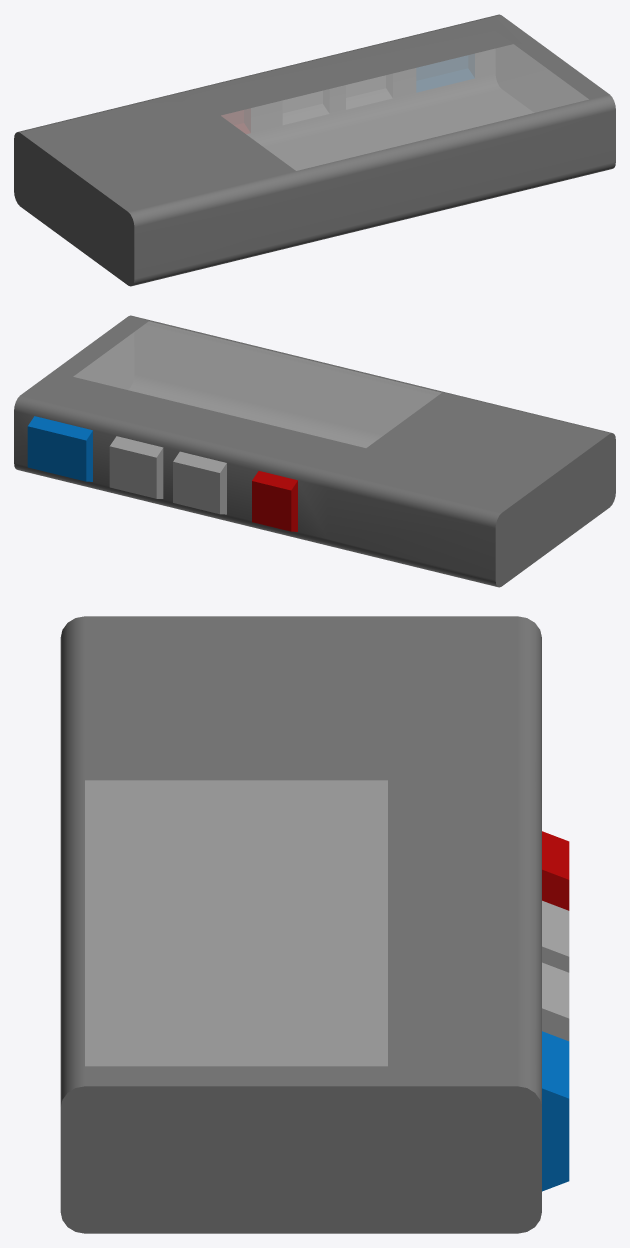
Rendered from CassettePlayer.fbx.
3 renders of one model, top to bottom at view 1: azimuth 30°, elevation 25°; view 2: azimuth 150°, elevation 25°; view 3: azimuth 270°, elevation 25°, orthographic. The views are drawn at different scales.
Visible parts, largest first — view 1: CassettePlayer; view 2: CassettePlayer; view 3: CassettePlayer.
Boxes of the visible parts, left/top/right/bottom form: CassettePlayer: left=14, top=14, right=615, bottom=286; CassettePlayer: left=14, top=315, right=615, bottom=587; CassettePlayer: left=60, top=616, right=569, bottom=1233.
Bounding box in the file's own units: 3.73 × 0.5449 × 1.71.
Materials: 5 (4 with a texture image).
